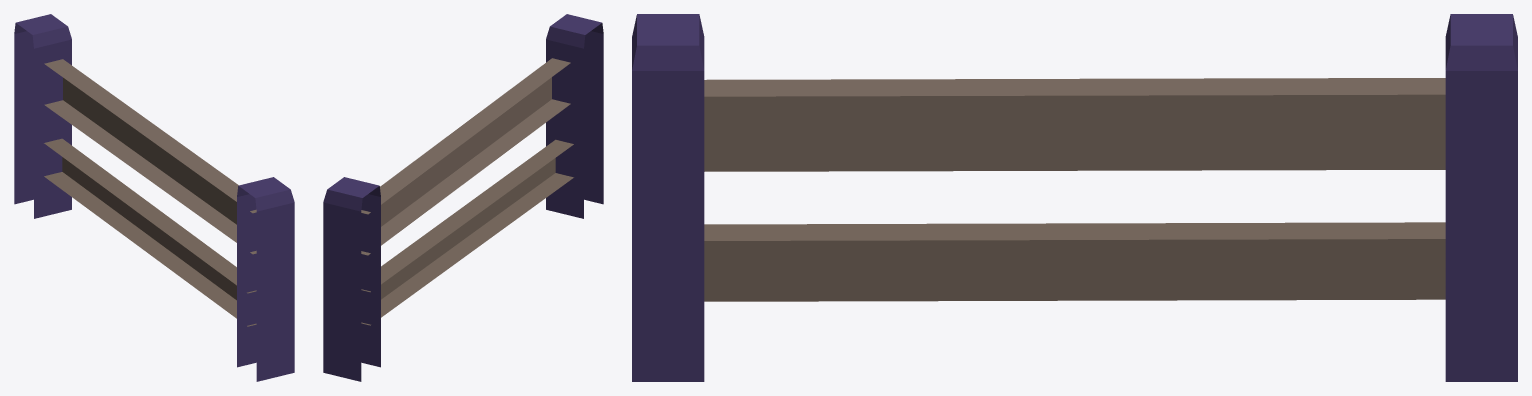
File: normal3.fbx
3 renders of one model, left to right at view 1: azimuth 30°, elevation 25°; view 2: azimuth 150°, elevation 25°; view 3: azimuth 270°, elevation 25°, orthographic. The views are drawn at different scales.
Parts seen in each view (by area): view 1: Cube, Cube.002, Cube.003, Cube.001; view 2: Cube.001, Cube.002, Cube, Cube.003; view 3: Cube.002, Cube.003, Cube, Cube.001.
Boxes of the visible parts, x1,y1,x2,y2 form: Cube: [237, 177, 294, 381]; Cube.002: [44, 59, 256, 254]; Cube.003: [44, 138, 256, 326]; Cube.001: [14, 14, 71, 218]; Cube.001: [323, 177, 380, 381]; Cube.002: [361, 58, 570, 255]; Cube: [546, 14, 603, 218]; Cube.003: [361, 139, 573, 325]; Cube.002: [704, 78, 1445, 171]; Cube.003: [704, 222, 1445, 301]; Cube: [632, 14, 704, 381]; Cube.001: [1445, 14, 1517, 381].
Bounding box in the file's own units: 43.56 × 200 × 481.
